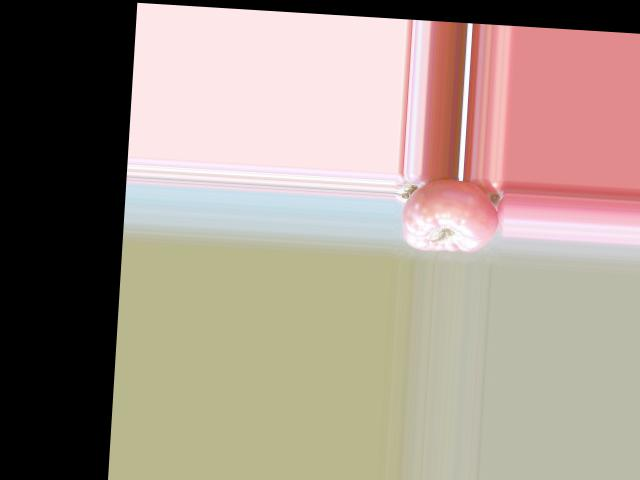tomato: (400, 176, 502, 254)
